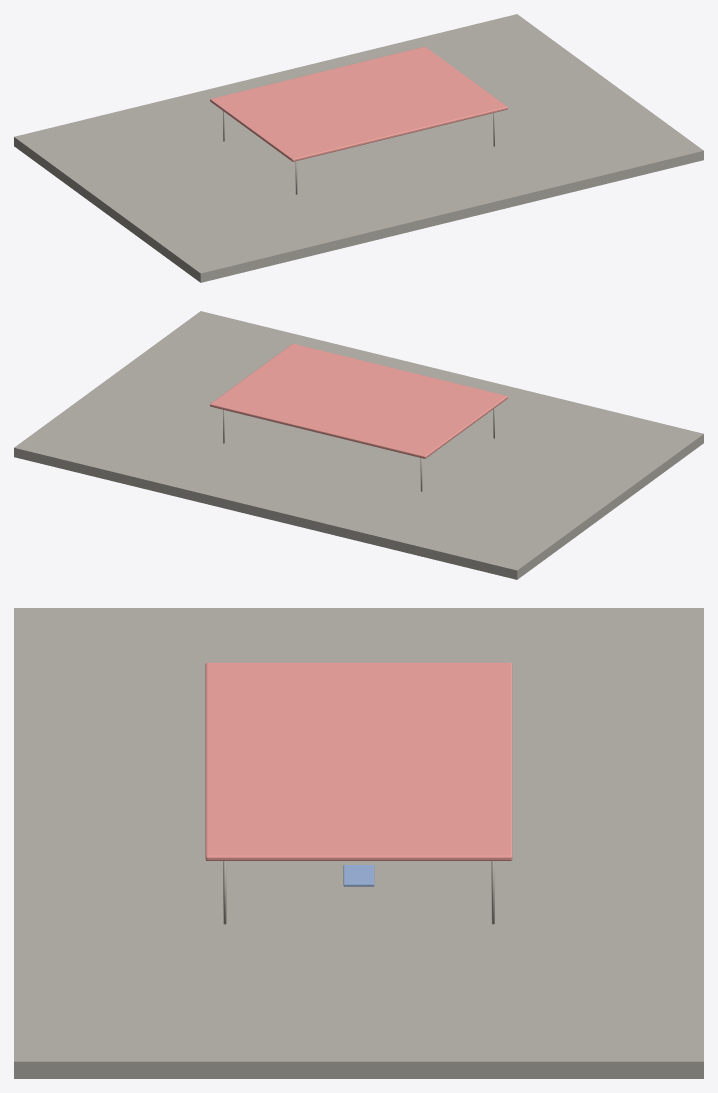
Rendered from YeonhwariHarbor_blockout.glb.
The picture shows the model from 3 angles, top to bottom: view 1: azimuth 30°, elevation 25°; view 2: azimuth 150°, elevation 25°; view 3: azimuth 270°, elevation 25°; orthographic projection. The views are drawn at different scales.
Parts seen in each view (by area): view 1: ENV12_YeonhwariHarbor_Quay_L0, ENV12_YeonhwariHarbor_TentRoof_L0; view 2: ENV12_YeonhwariHarbor_Quay_L0, ENV12_YeonhwariHarbor_TentRoof_L0; view 3: ENV12_YeonhwariHarbor_Quay_L0, ENV12_YeonhwariHarbor_TentRoof_L0.
Part boxes in pixels (bbox=[...]): ENV12_YeonhwariHarbor_Quay_L0: bbox=[14, 14, 703, 282]; ENV12_YeonhwariHarbor_TentRoof_L0: bbox=[210, 46, 507, 161]; ENV12_YeonhwariHarbor_Quay_L0: bbox=[14, 311, 703, 579]; ENV12_YeonhwariHarbor_TentRoof_L0: bbox=[210, 343, 507, 458]; ENV12_YeonhwariHarbor_Quay_L0: bbox=[14, 608, 703, 1078]; ENV12_YeonhwariHarbor_TentRoof_L0: bbox=[205, 662, 512, 860].
Size of the model in its own units: 28 by 2.67 by 18.
